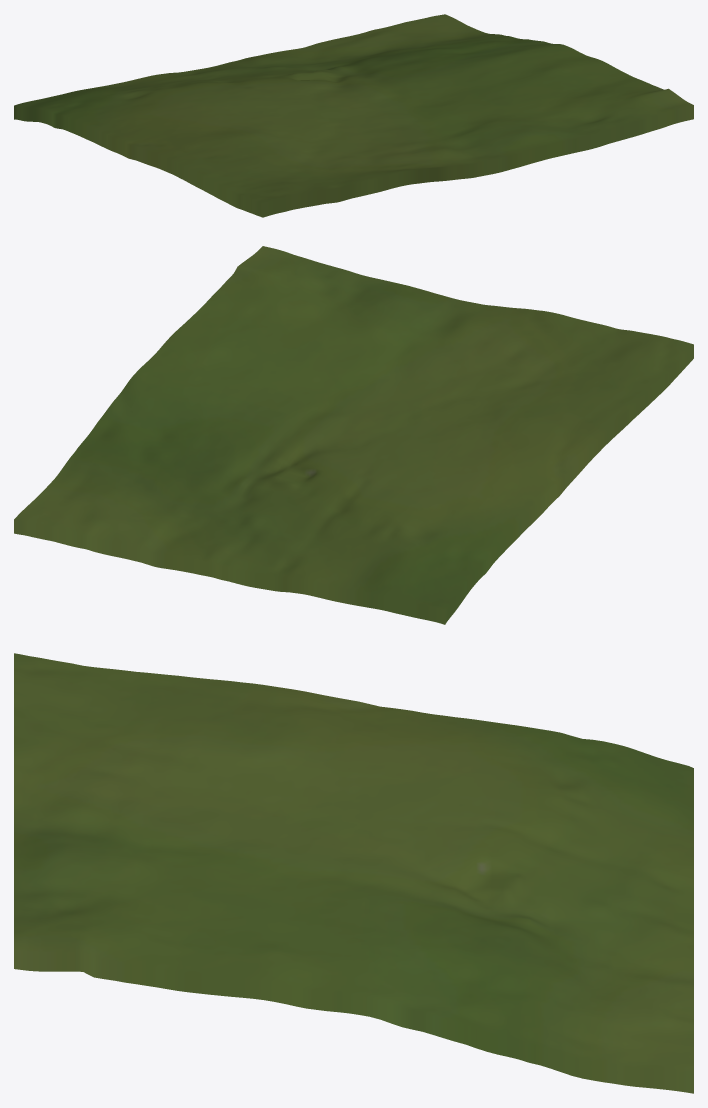
Rendered from terrain_11_-10.glb.
The picture shows the model from 3 angles, top to bottom: view 1: azimuth 30°, elevation 25°; view 2: azimuth 150°, elevation 25°; view 3: azimuth 270°, elevation 25°; orthographic projection. The views are drawn at different scales.
Parts seen in each view (by area): view 1: terrain_11_-10; view 2: terrain_11_-10; view 3: terrain_11_-10.
Part boxes in pixels (box(x1,y1,x2,y2)): terrain_11_-10: box(14, 14, 693, 217); terrain_11_-10: box(14, 246, 693, 624); terrain_11_-10: box(14, 653, 693, 1093).
Bounding box in the file's own units: 256 × 63.98 × 256.
